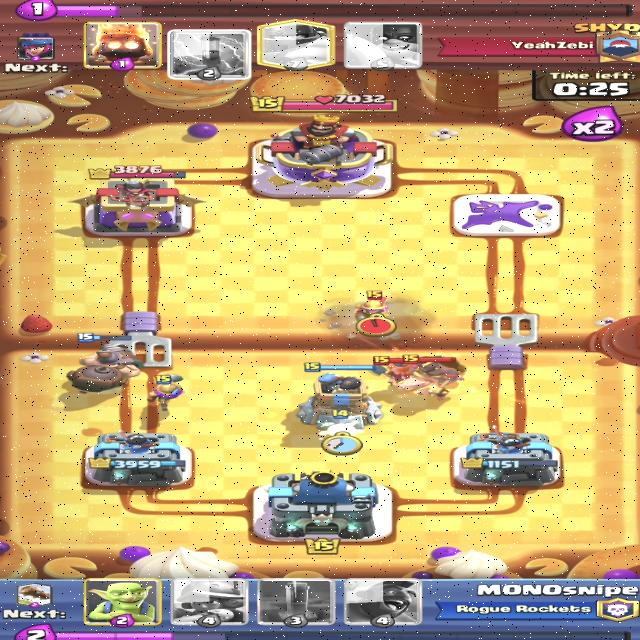Enemy-Hog: (395, 353, 462, 400)
Enemy-Musketeer: (348, 290, 397, 328)
Enemy-Valkyrie: (372, 355, 428, 388)
Player-BombTower: (297, 361, 386, 433)
Player-IceSpirit: (314, 409, 368, 441)
Player-MightyMiner: (58, 333, 149, 393)
Player-Musketeer: (144, 374, 184, 411)
